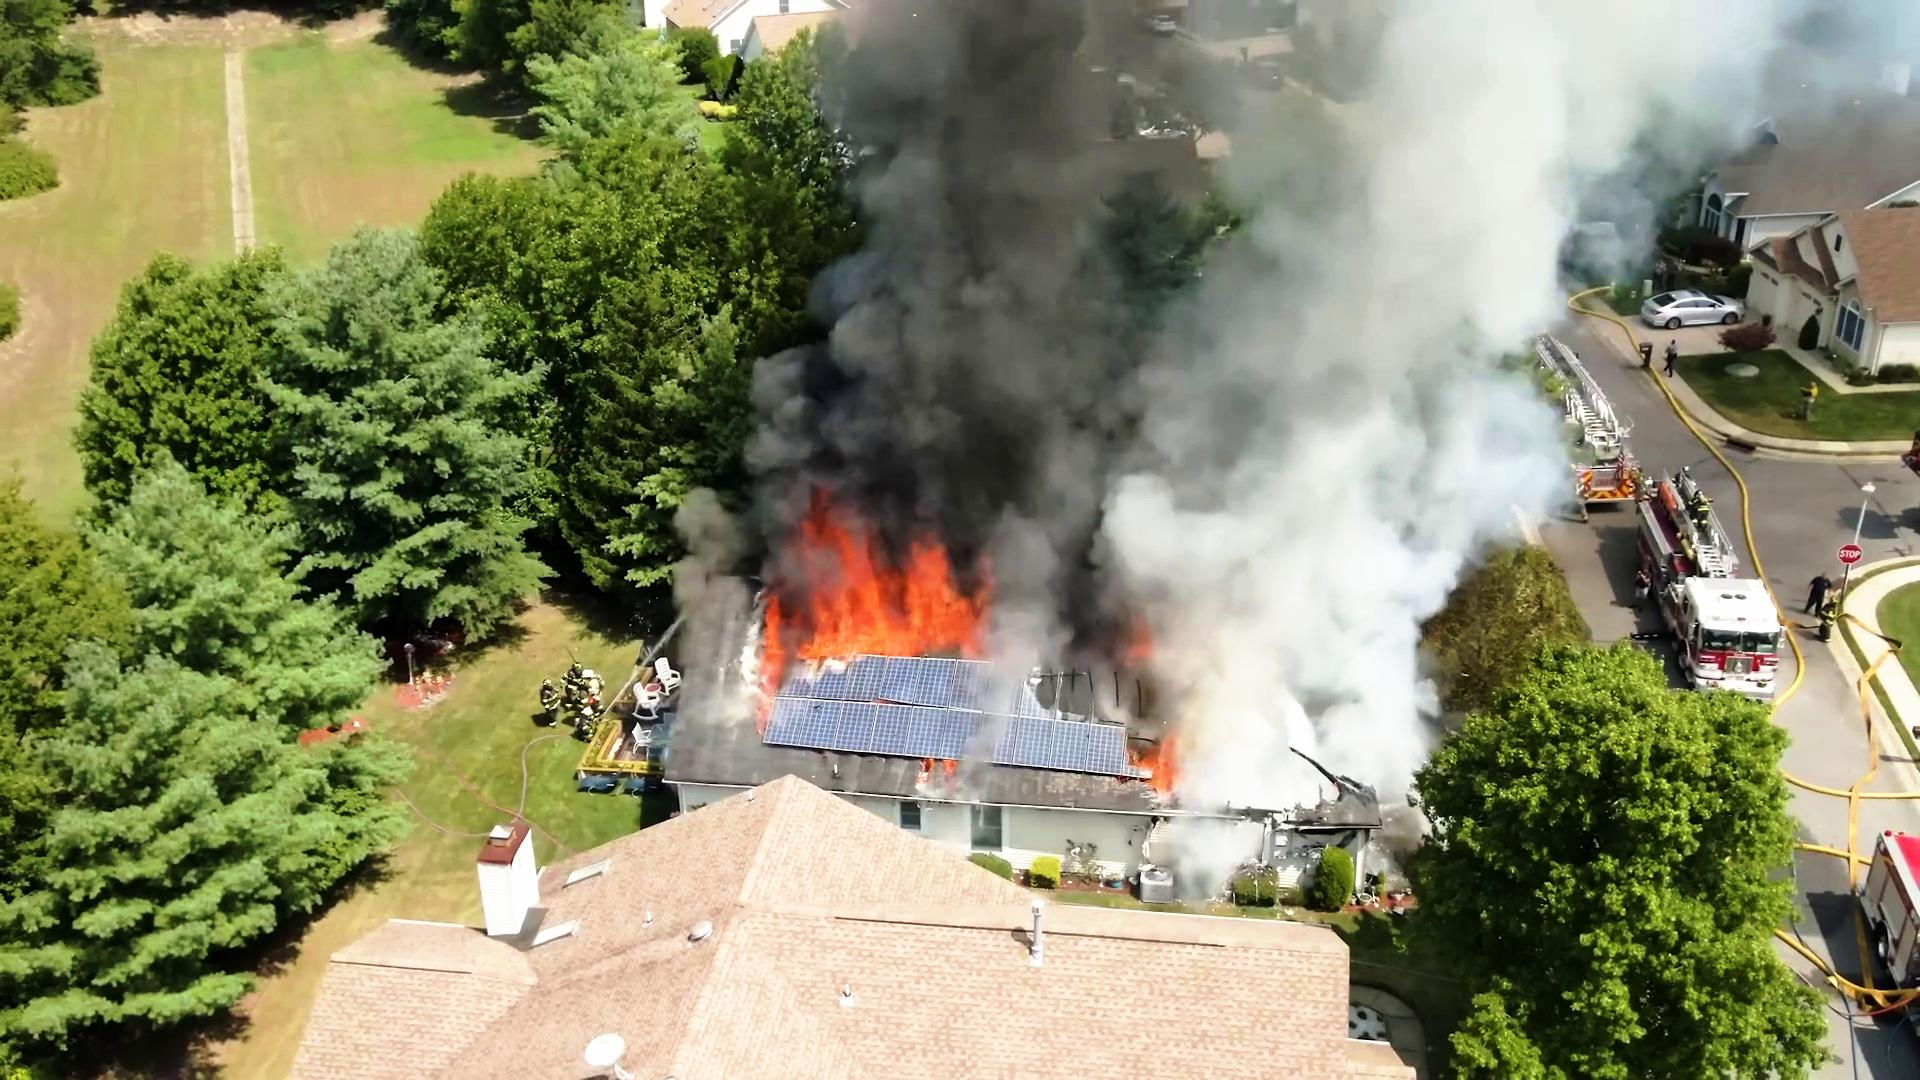fire: (748, 508, 1013, 676)
smoke: (1091, 265, 1461, 758), (829, 8, 1101, 444)
